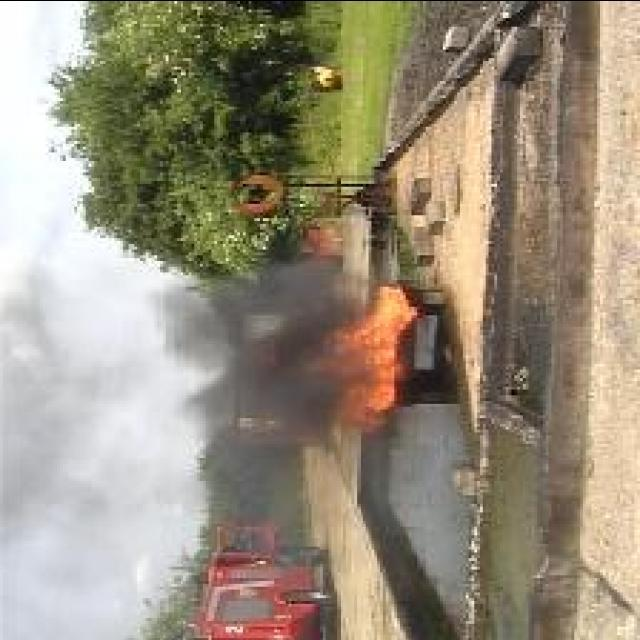Fire: (312, 284, 419, 430)
